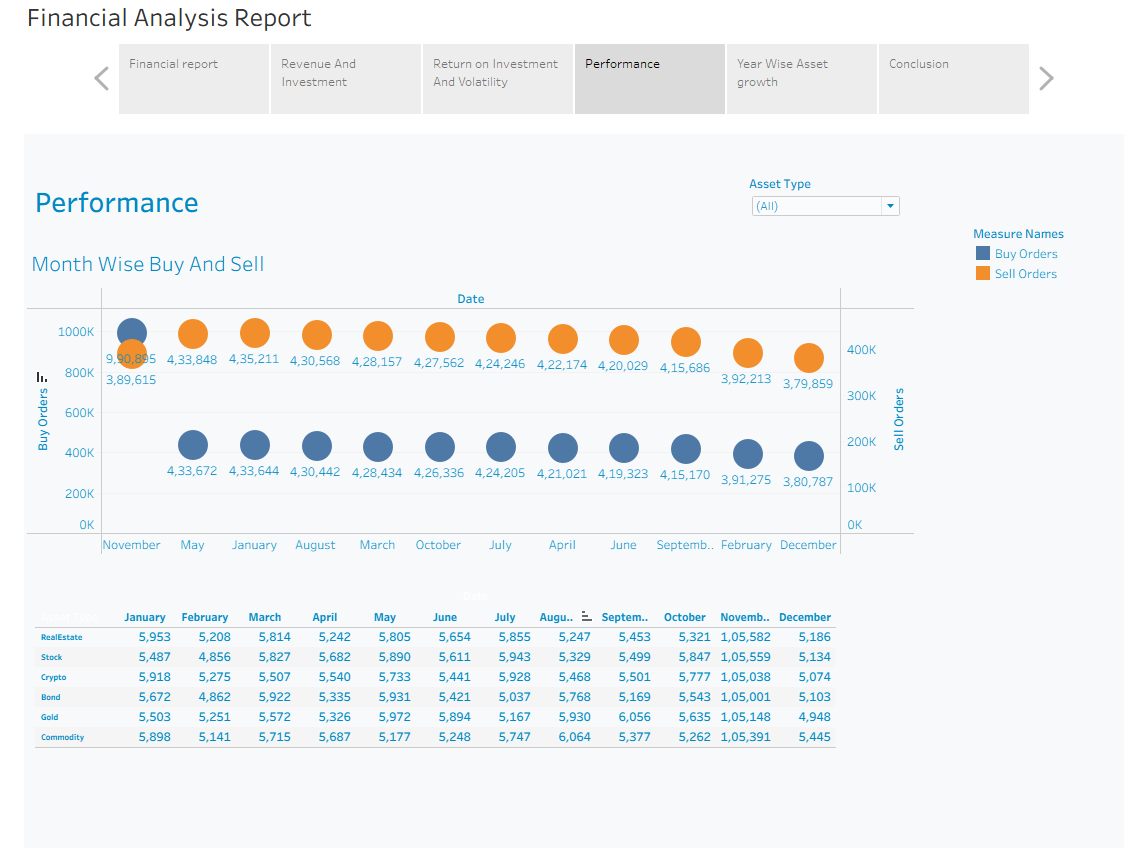

The dashboard page shown, as its layout file describes it:
{"tool":"tableau","page":{"name":"Dashboard 3","canvas":[1000,1000],"units":"permille","ordinal":2},"visuals":[{"type":"text","box":[7,50,208.1,87.5]},{"type":"filter","title":"Month Wise Buy And Sell","param":"[federated.1rvt64d028b8dz11czbfh04hzu45].[none:Asset_Type:nk]","box":[659.5,57.2,140.4,133.2]},{"type":"legend","title":"Month Wise Buy And Sell","param":"[federated.1rvt64d028b8dz11czbfh04hzu45].[:Measure Names]","box":[863,126.8,122.9,103.6]},{"type":"worksheet","title":"Month Wise Buy And Sell","mark":"Automatic","rows":["Buy_Orders","Sell_Orders"],"cols":["Date"],"box":[2.6,155.4,806.9,433.9]},{"type":"legend","title":"Net Inflow","param":"[federated.1rvt64d028b8dz11czbfh04hzu45].[sum:Net_Inflows:qk]","box":[851.6,442.9,122.9,135.7]}]}

Visuals, with their boxes on the dashboard's canvas, which has no fixed pixel size, in thousandths of its width and height (x1, y1, x2, y2). These are canvas units, not pixel positions in the 1133x862 screenshot, which may show the page scaled, cropped or inside an application window:
text: (7, 50, 215, 138)
"Month Wise Buy And Sell" filter: (660, 57, 800, 190)
"Month Wise Buy And Sell" legend: (863, 127, 986, 230)
"Month Wise Buy And Sell" worksheet: (3, 155, 810, 589)
"Net Inflow" legend: (852, 443, 974, 579)
